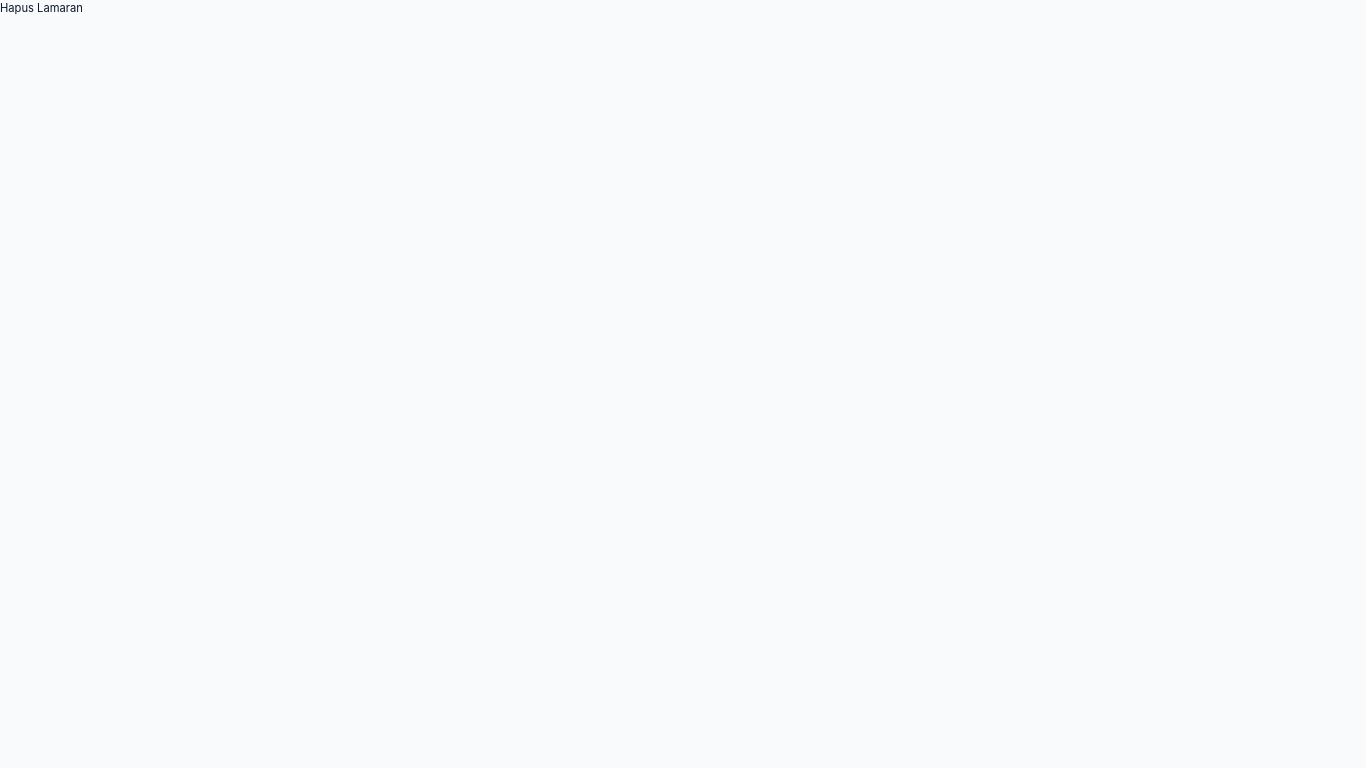
Test case: overlay focus restoration & accessible semantics › restores focus to trigger after AlertDialog cancellation
The image size is (1366, 768).
Later steps or results of the test are not shown.
Click the button "Hapus Lamaran". click: (41, 8)
box: [0,0,83,17]
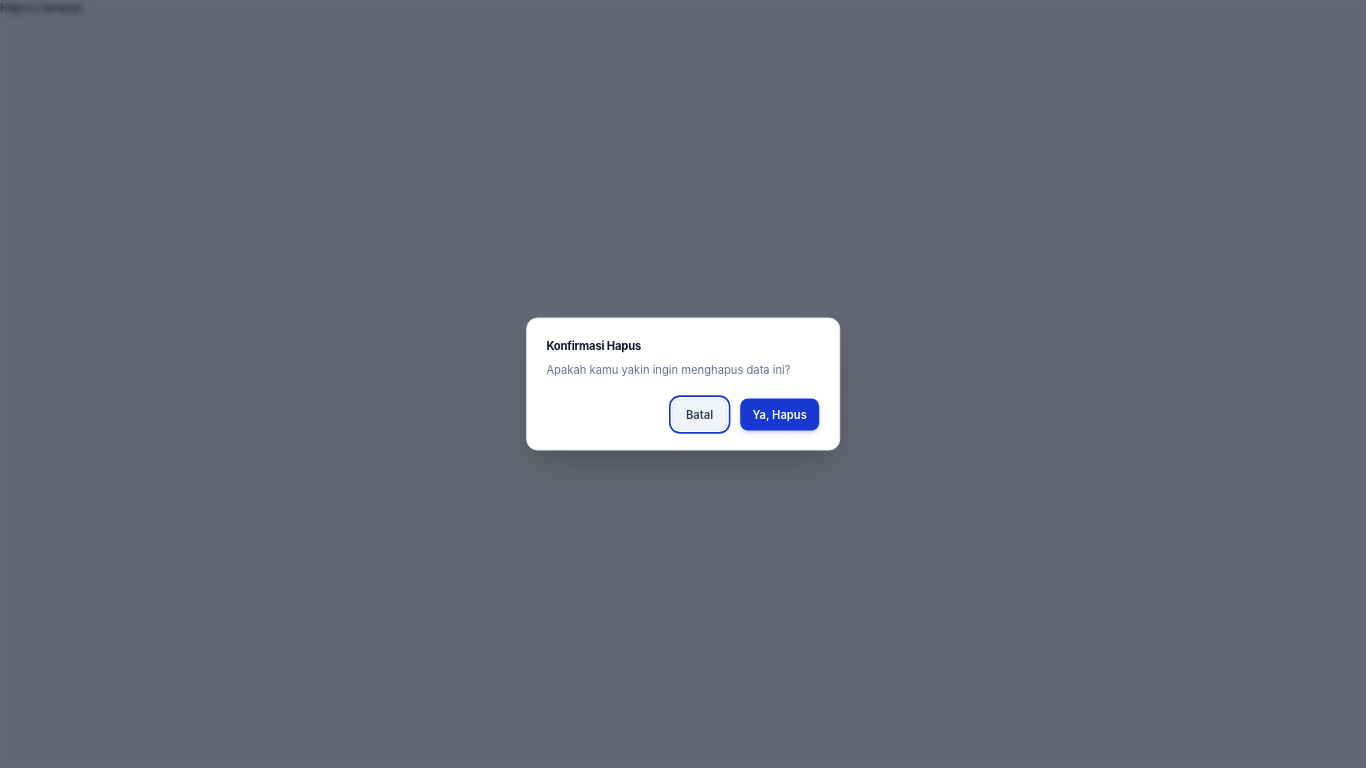
expect the dialog is shown: met, box [526,318,840,450]
